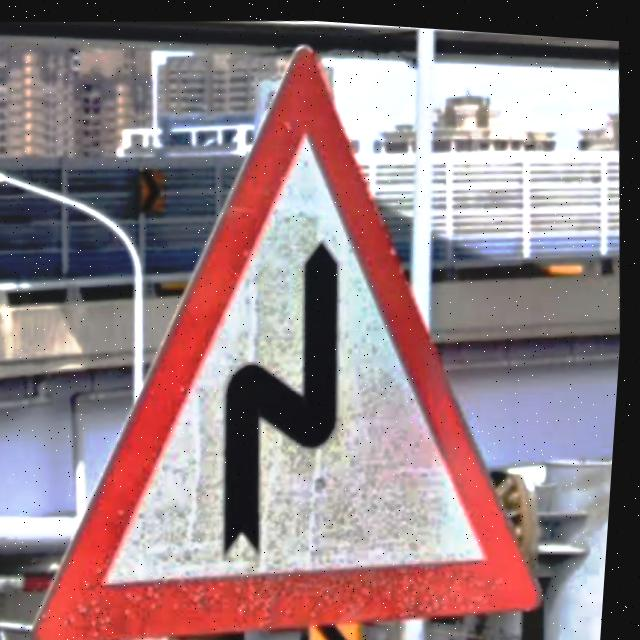doublebendright: (41, 41, 551, 640)
